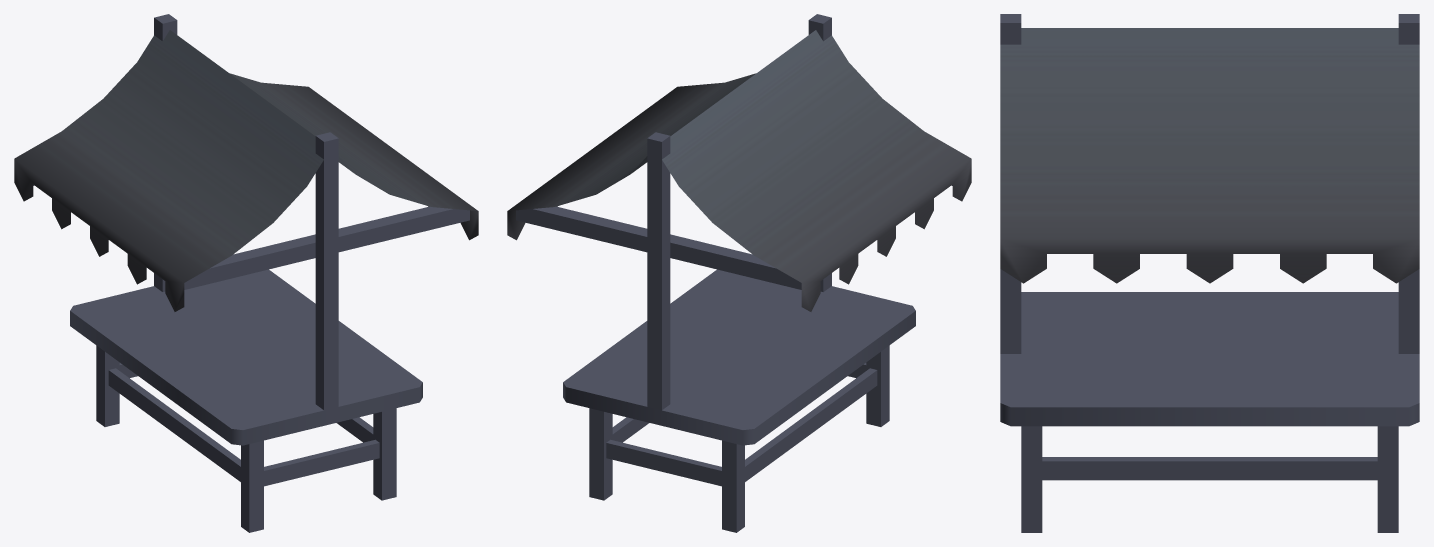
The model's file is stall-red.glb.
The picture shows the model from 3 angles, left to right: view 1: azimuth 30°, elevation 25°; view 2: azimuth 150°, elevation 25°; view 3: azimuth 270°, elevation 25°; orthographic projection. The views are drawn at different scales.
Visible parts, largest first — view 1: stall-red; view 2: stall-red; view 3: stall-red.
Boxes of the visible parts, x1,y1,x2,y2 form: stall-red: (14,14,478,532); stall-red: (507,14,971,532); stall-red: (1000,14,1419,532).
Size of the model in its own units: 1 by 1.24 by 1.
1 material, 1 textured.
